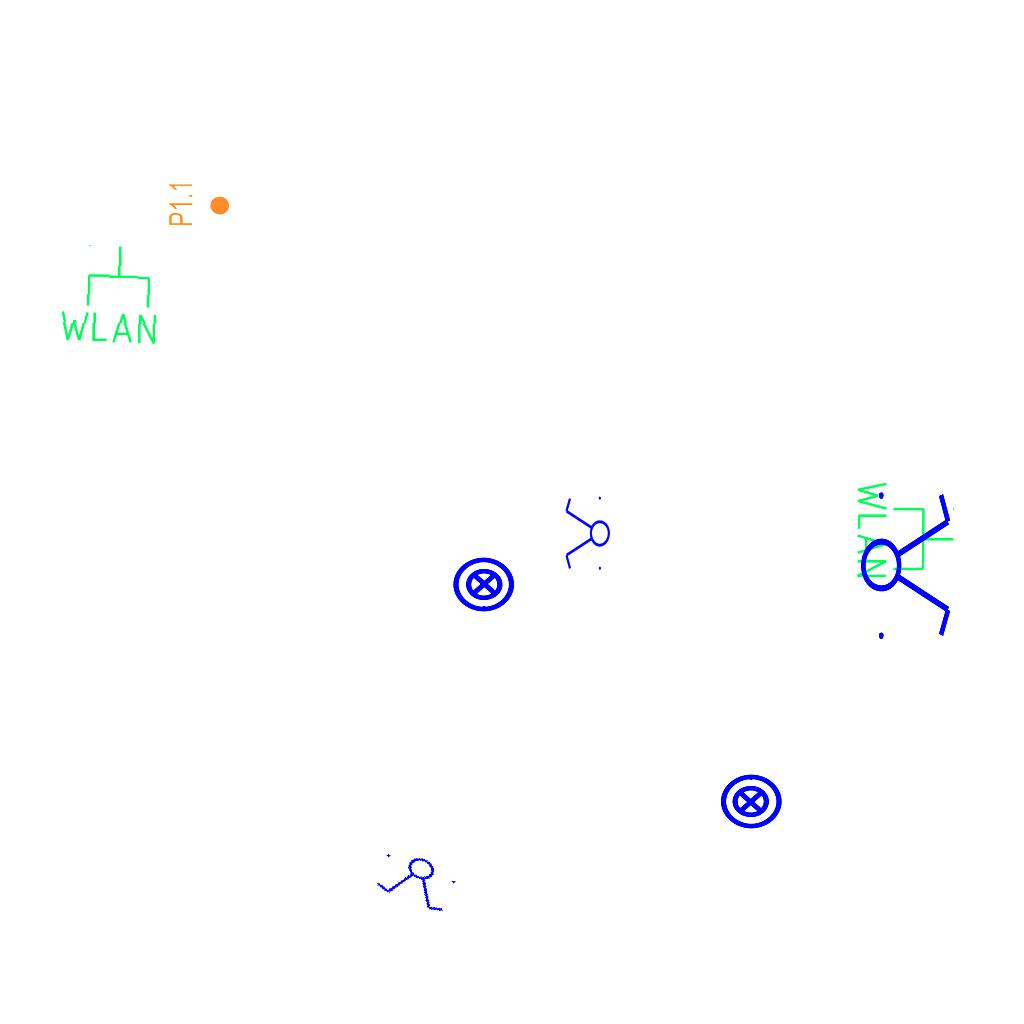Downlight_LED_Einbauleuchten_Flur: (167, 181, 231, 227)
Serienschalter: (859, 480, 955, 648), (369, 843, 465, 919), (563, 492, 611, 576)
Taster_beleuchtet: (718, 769, 784, 835), (451, 551, 517, 617)
WLAN: (54, 240, 164, 349), (853, 477, 957, 582)
